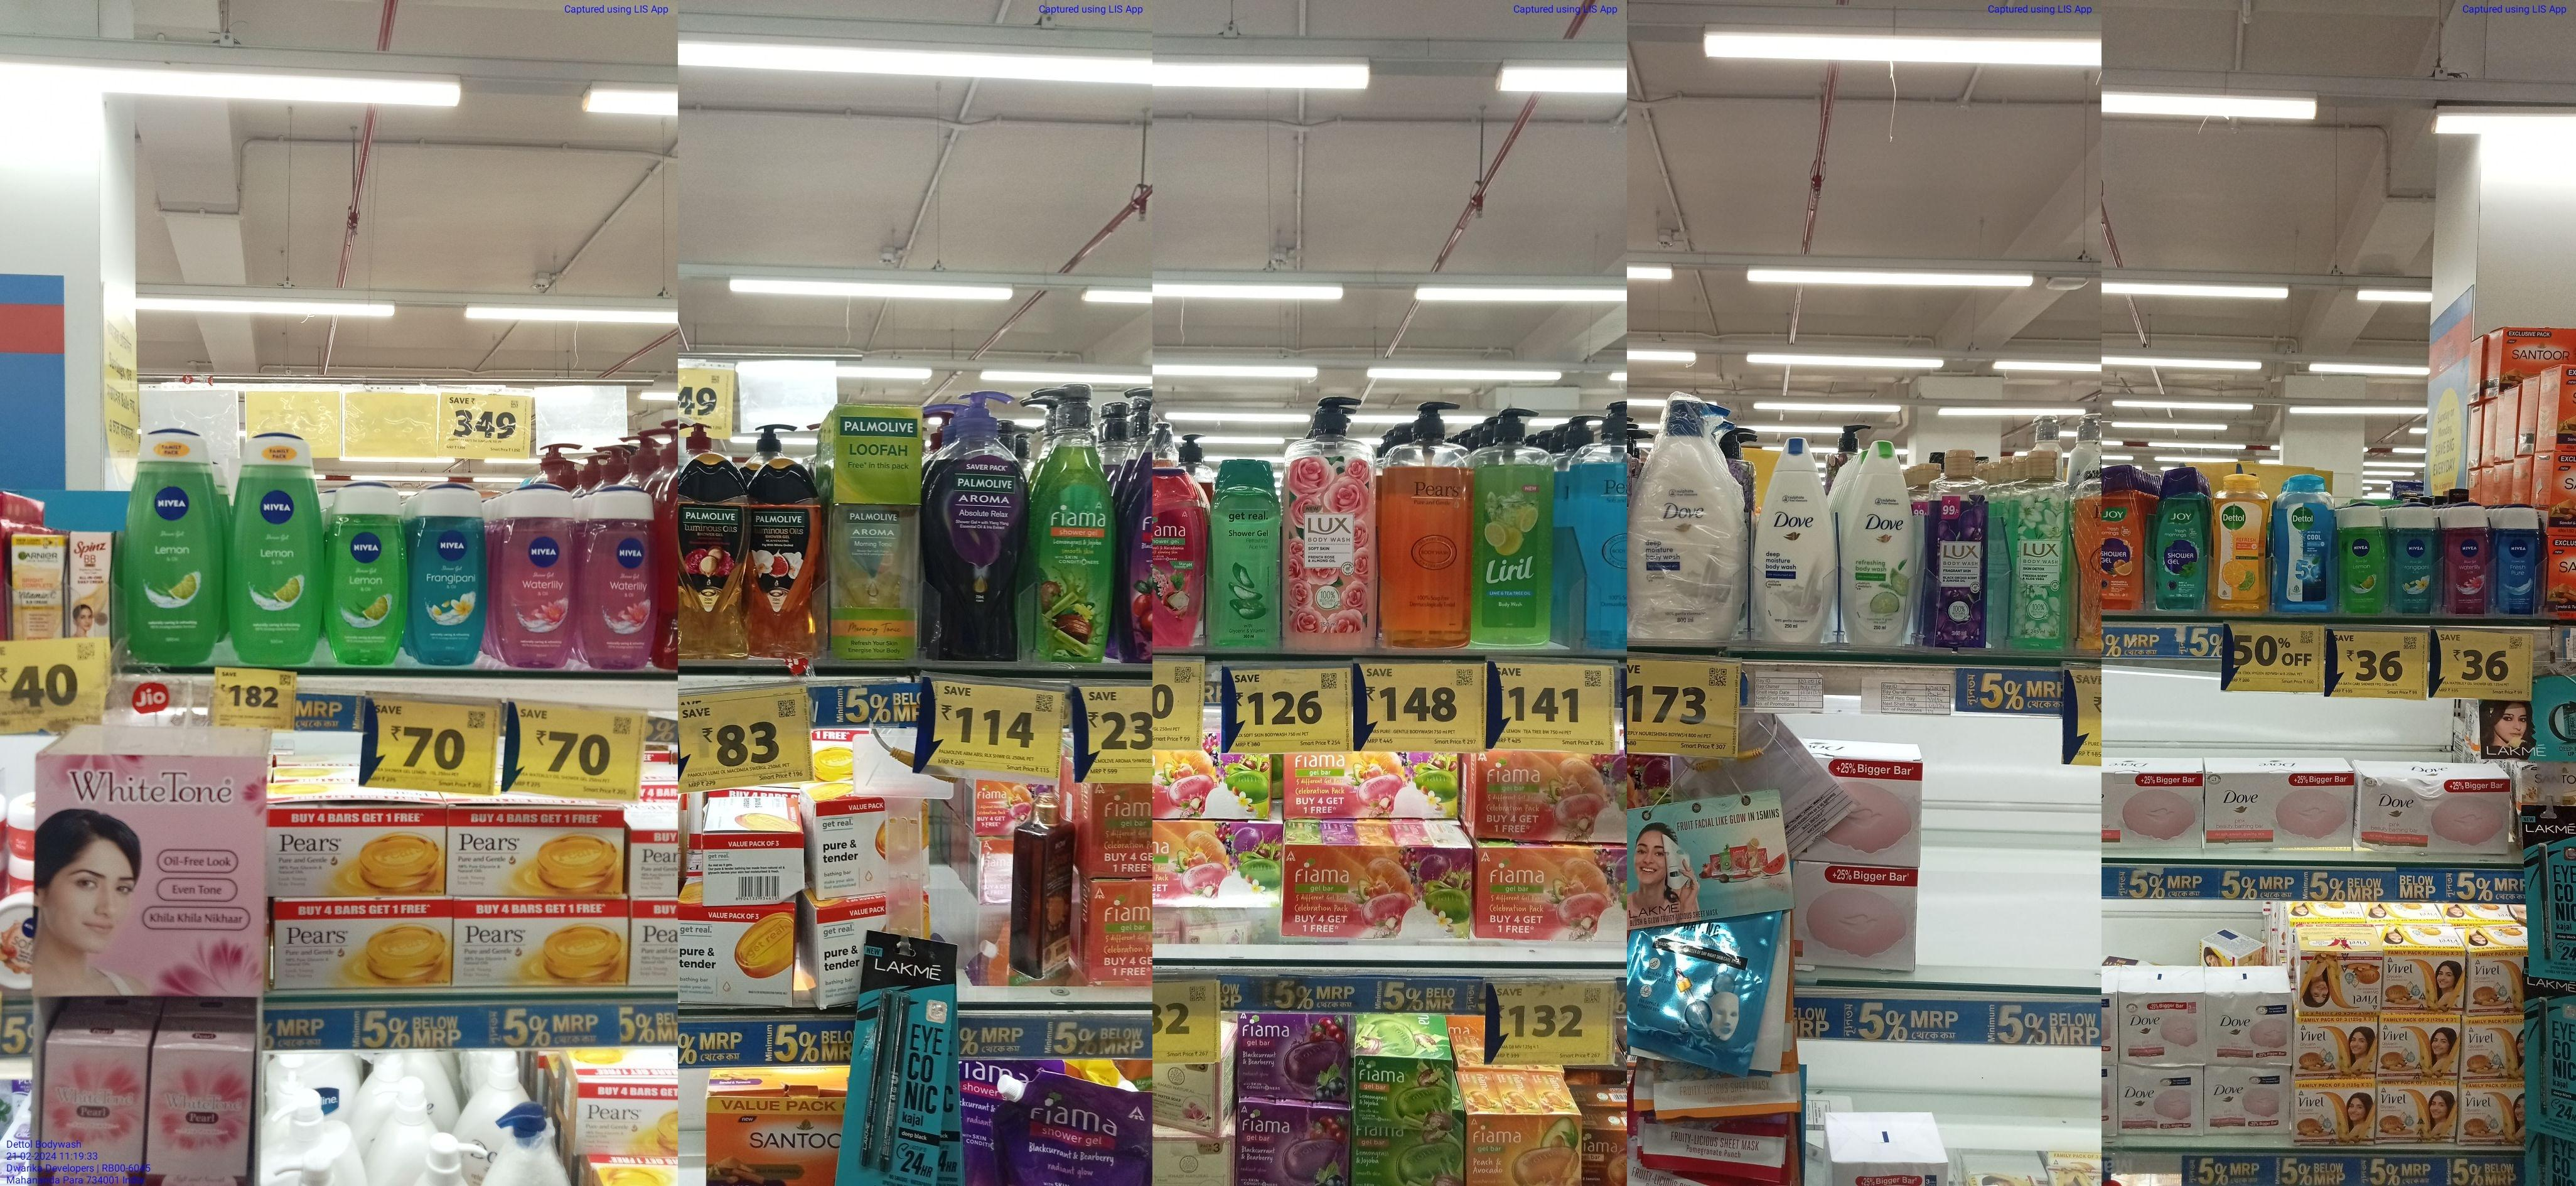Dettol_Bodywash_Cool: (2272, 473, 2336, 613)
Dettol_Bodywash_Refresh: (2208, 471, 2270, 611)
Dove_Deep_Moisture_Body_Wash_250ML: (1753, 435, 1835, 647)
Dove_Refreshing_Body_Wash_250ML: (1835, 437, 1916, 646)
Joy_Shower_Gel_Mint_and_Eucalyptus_250ML: (2149, 465, 2208, 609)
Lux_Black_Orchid_Scent_and_Juniper_Oil_Body_Wash_245ML: (1924, 445, 1991, 647)
Lux_Body_Wash_Skin_Detox_Freesia_Scent_and_Alove_Vera_245ML: (2006, 448, 2072, 649)
Nivea_Shower_Gel_Frangipani_and_Oil_250ML: (407, 481, 488, 665)
Nivea_Shower_Gel_Lemon_and_Oil_250ML: (120, 425, 220, 665), (228, 432, 322, 664), (327, 481, 409, 665)
Nivea_Shower_Gel_Waterlily_and_Oil_250ML: (494, 481, 577, 670), (577, 481, 657, 670)
Palmolive_Luminous_Oils_Invigorating_Macadamia_Oil_With_Peony_250ML: (677, 453, 749, 660)
Palmolive_Luminous_Oils_With_White_Orchid_Shower_Gel_250ML: (751, 453, 823, 660)
